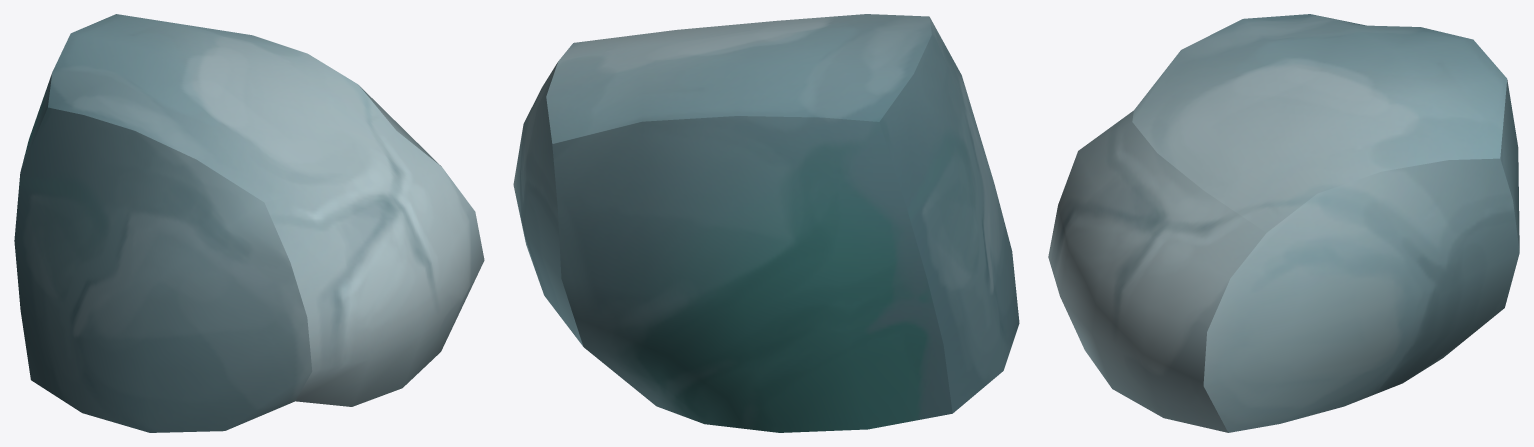
Rendered from Stone_1.FBX.
3 views of the same model, side by side, from view 1: azimuth 30°, elevation 25°; view 2: azimuth 150°, elevation 25°; view 3: azimuth 270°, elevation 25° (orthographic). The views are drawn at different scales.
Visible parts, largest first — view 1: Box023; view 2: Box023; view 3: Box023.
Boxes of the visible parts, left/top/right/bottom form: Box023: left=14, top=14, right=484, bottom=432; Box023: left=513, top=14, right=1019, bottom=432; Box023: left=1048, top=14, right=1519, bottom=432.
Size of the model in its own units: 5.66 by 3.8 by 5.73.
